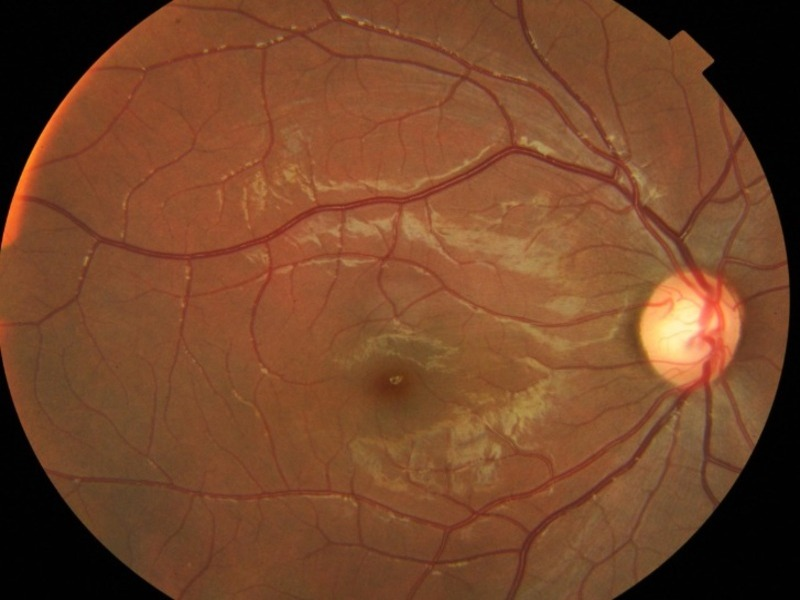Optic Cup: (664, 297, 705, 353)
Optic Disc: (637, 271, 743, 385)
